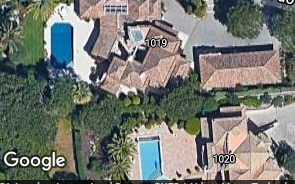pool: (51, 24, 73, 69), (139, 140, 162, 179)
